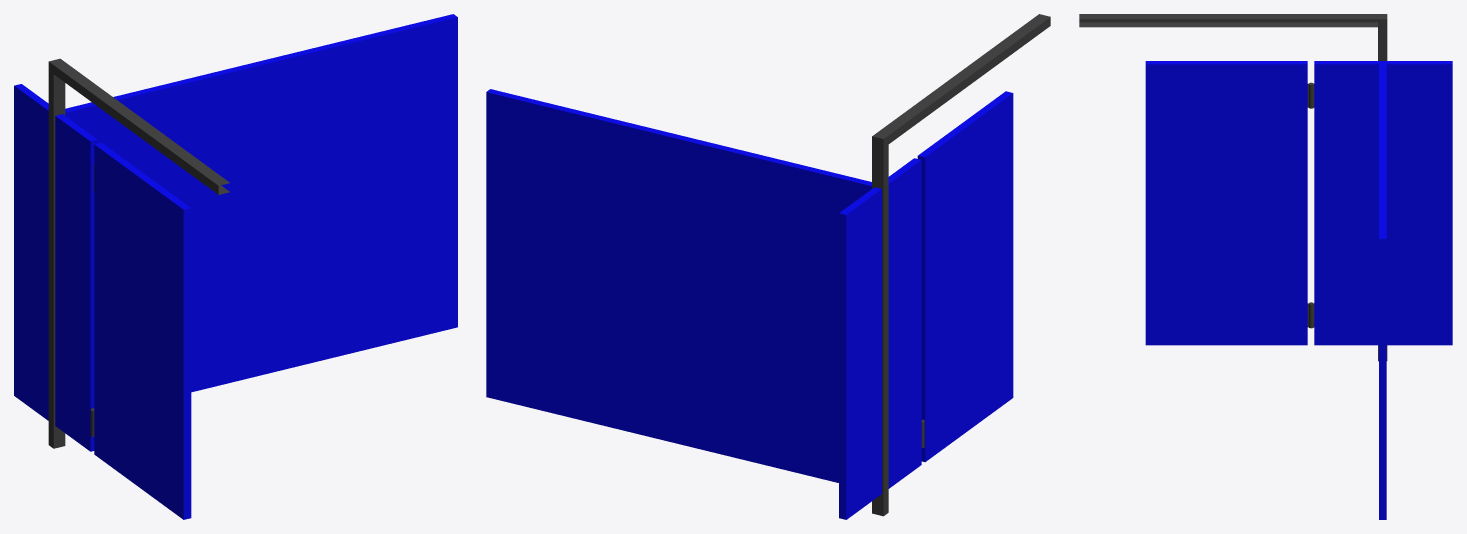
File: stall.fbx
3 renders of one model, left to right at view 1: azimuth 30°, elevation 25°; view 2: azimuth 150°, elevation 25°; view 3: azimuth 270°, elevation 25°, orthographic. The views are drawn at different scales.
Visible parts, largest first — view 1: Plane; view 2: Plane; view 3: Plane.
Part boxes in pixels (box(x1,y1,x2,y2)): Plane: box(14, 14, 457, 519); Plane: box(486, 14, 1050, 519); Plane: box(1079, 14, 1452, 519).
Bounding box in the file's own units: 2175 × 1971 × 1920.
